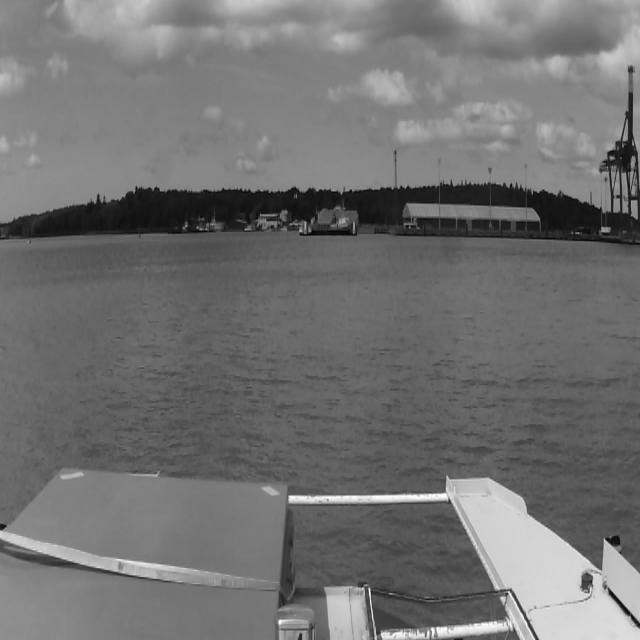buoy: (139, 231, 141, 239)
ship: (26, 224, 30, 244)
